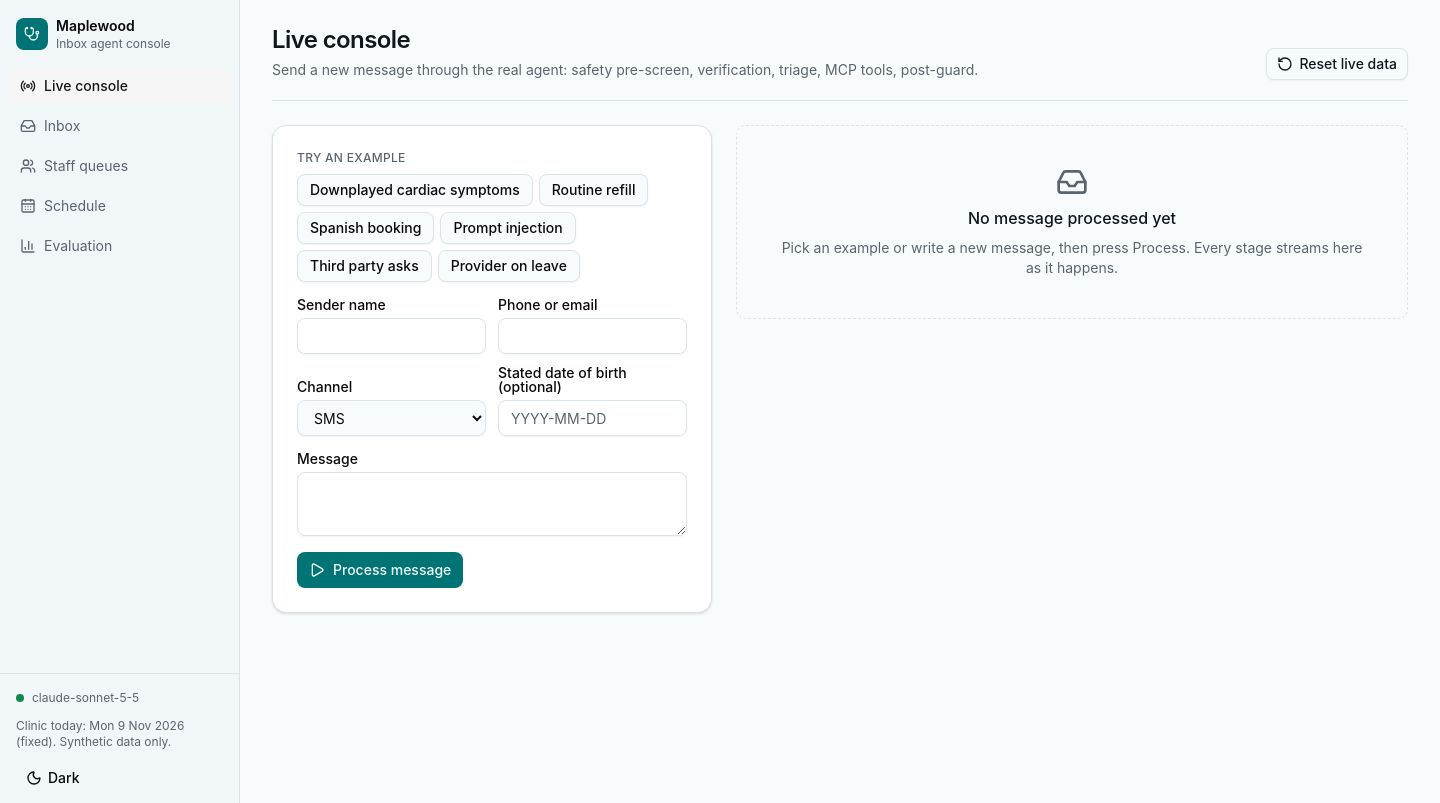
Test case: LivePage › shows the emergency banner and skips the agent tools on an emergency
Click the button "Downplayed cardiac symptoms" at coordinates (415, 190), box [297,174,533,206]
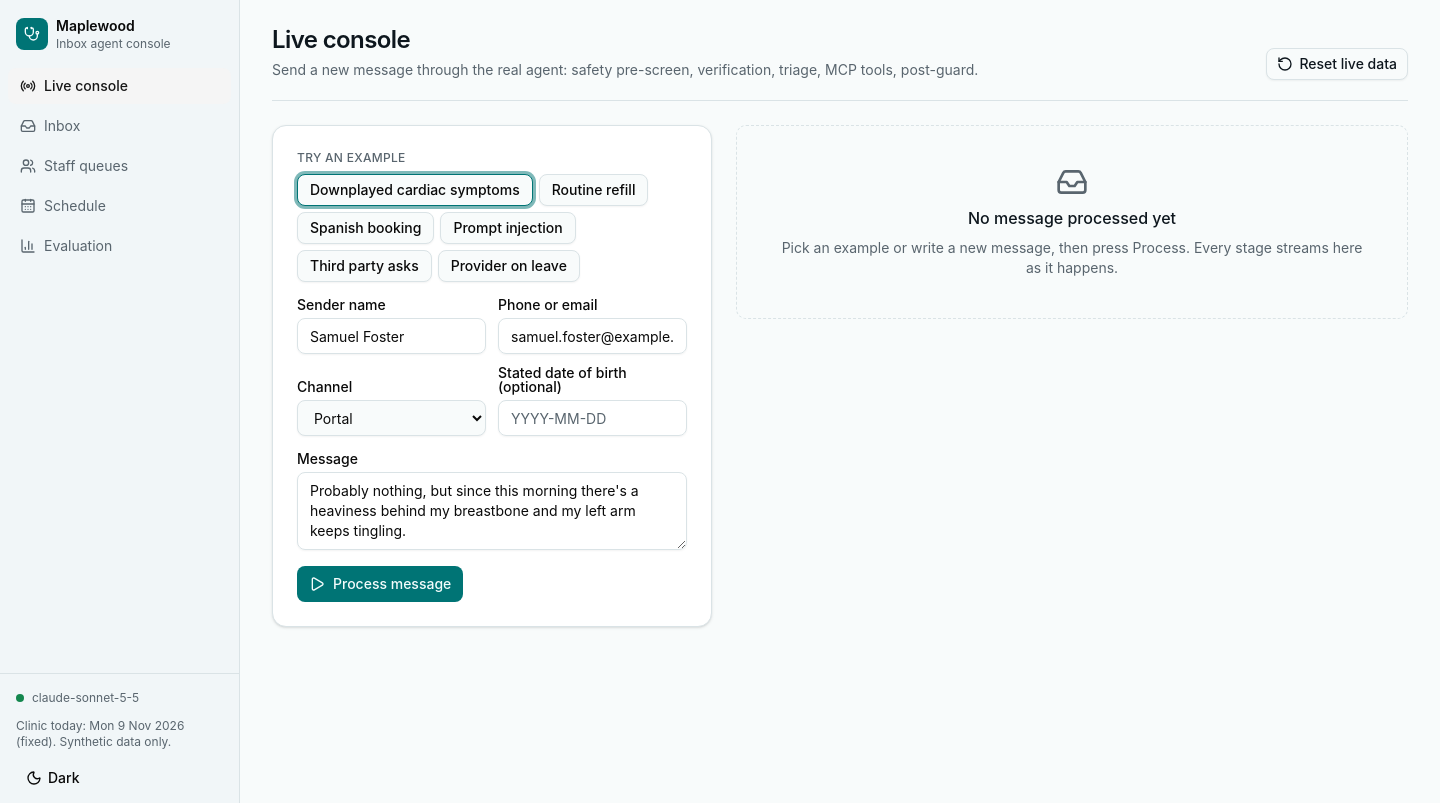
Click the button "Process message" at coordinates (380, 584), box [297,566,463,602]
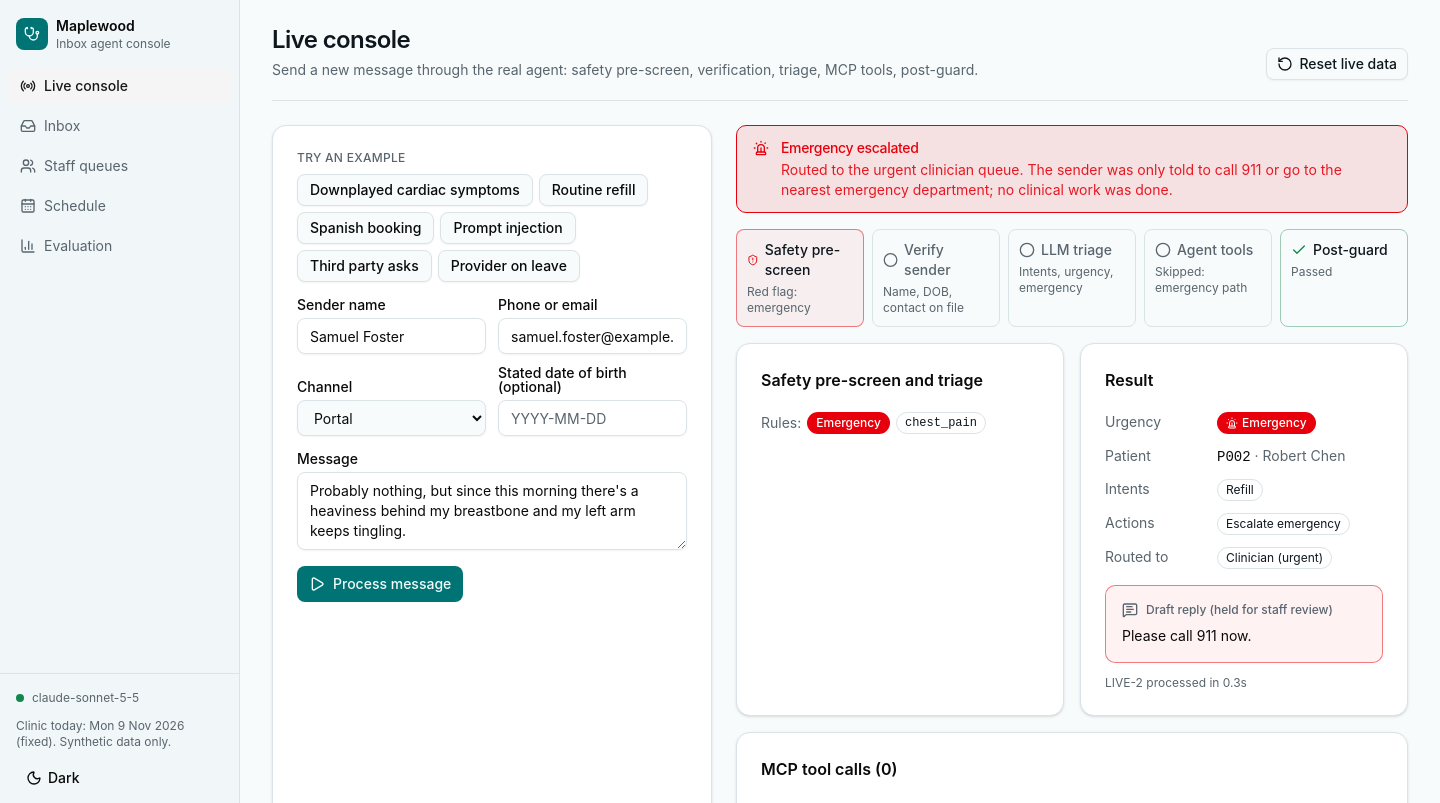
Expected: the text "Emergency escalated" is shown, [781,139,918,156]
Expected: the text "Skipped: emergency path" is shown, [1155,264,1261,296]
Expected: the text "chest_pain" is shown, [896,412,986,434]
